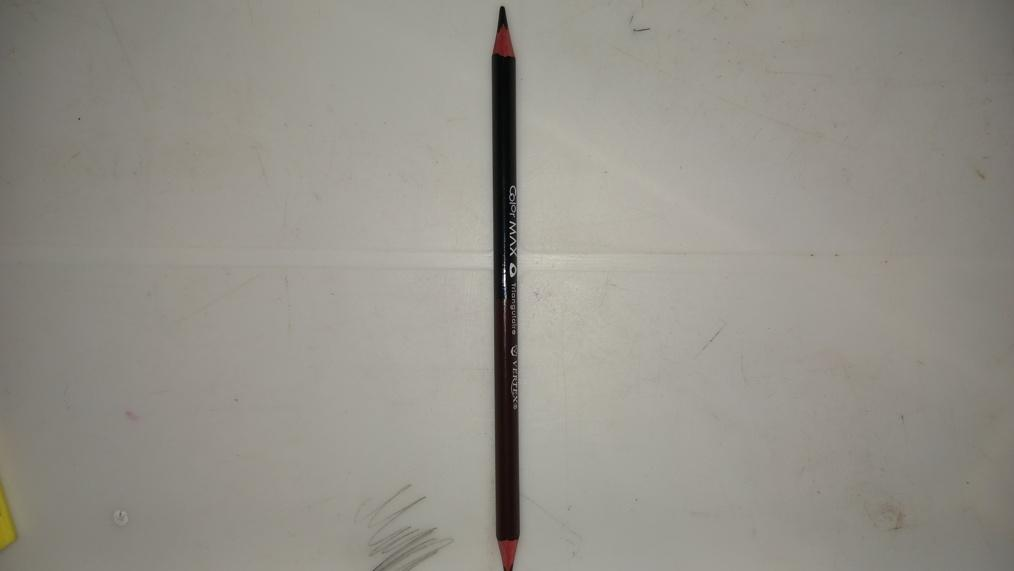Pencil: (491, 4, 523, 571)
